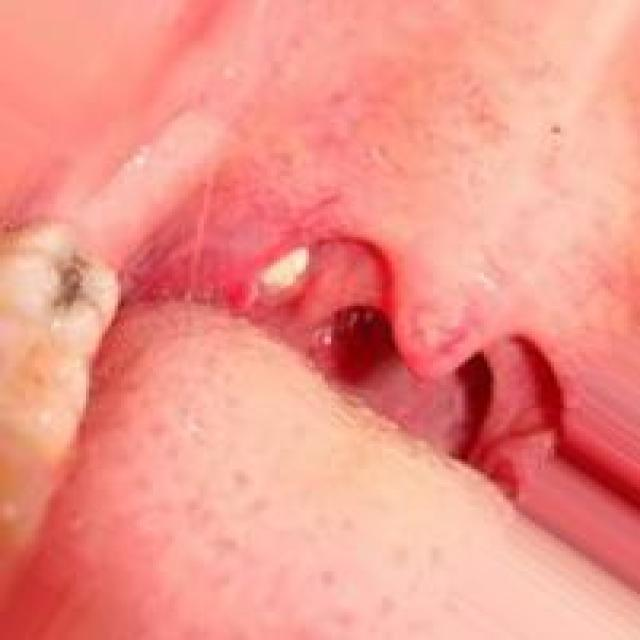caries: (9, 234, 124, 330)
